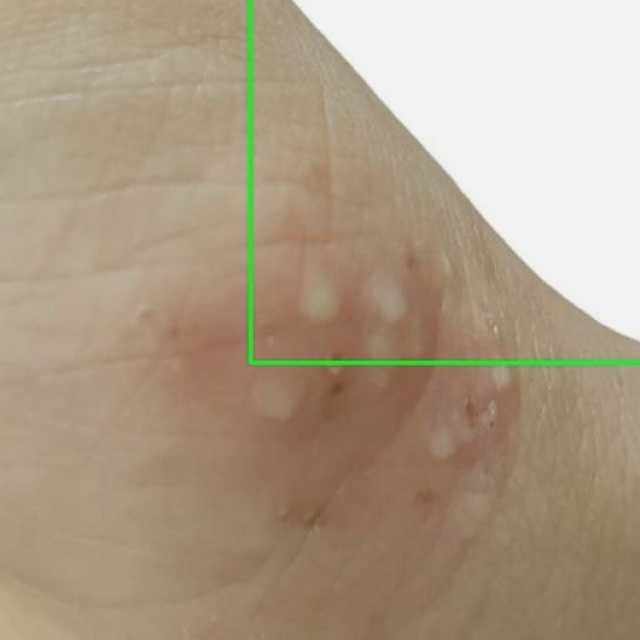Scabies: (251, 0, 639, 362)
